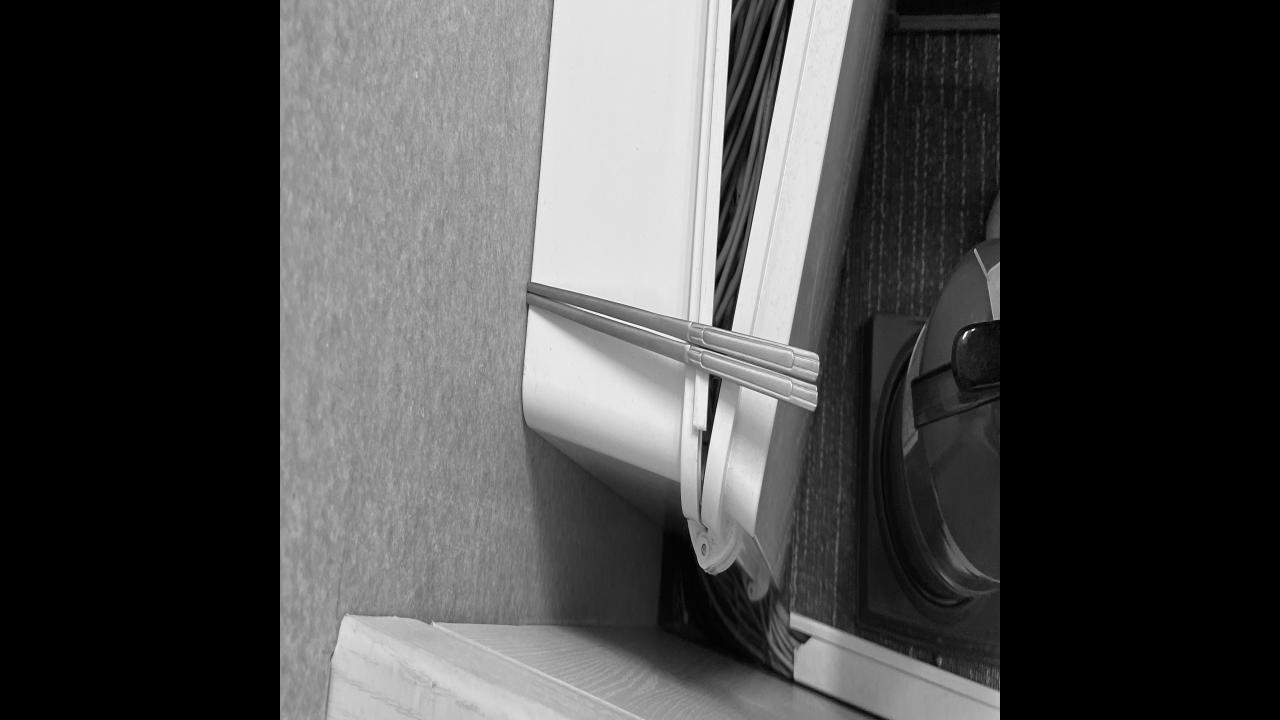chopstick: (523, 274, 822, 419)
